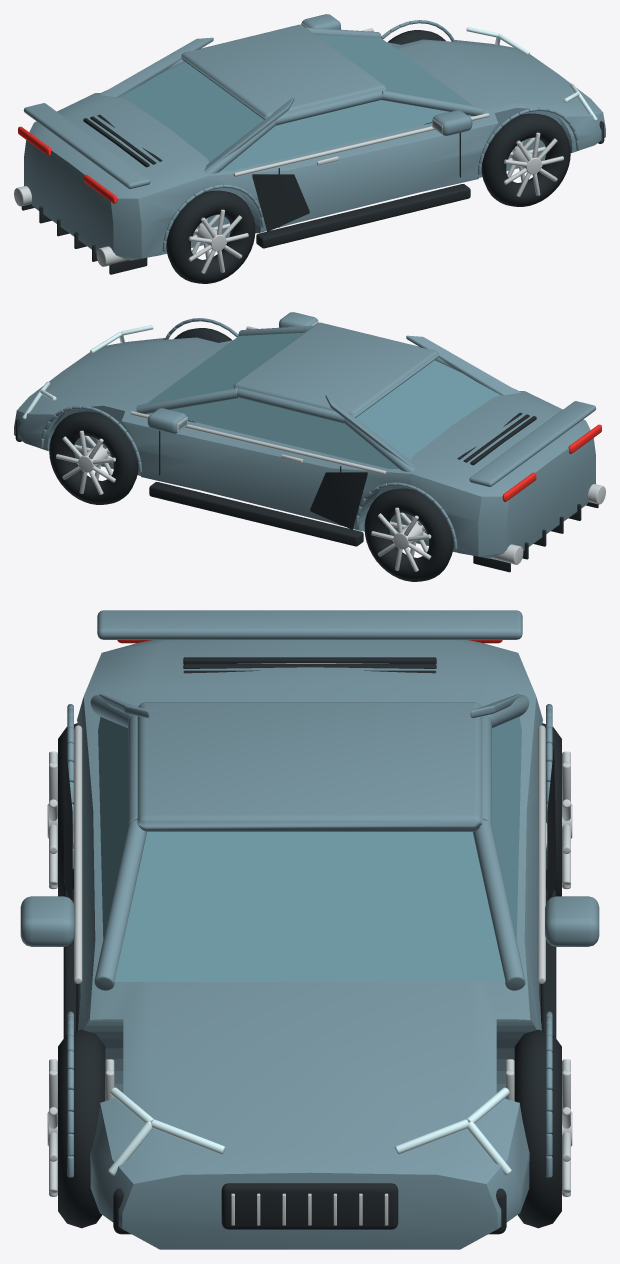
File: VelaR.fbx
3 renders of one model, top to bottom at view 1: azimuth 30°, elevation 25°; view 2: azimuth 150°, elevation 25°; view 3: azimuth 270°, elevation 25°, orthographic. The views are drawn at different scales.
Parts seen in each view (by area): view 1: BodyPaint, Glazing, TrimRubber, TrimRubber.001, TrimRubber.002, BrushedAlloy, BrushedAlloy.001, BrushedAlloy.002, Taillamp, Headlamp, TrimRubber.004; view 2: BodyPaint, Glazing, TrimRubber, TrimRubber.003, TrimRubber.004, BrushedAlloy, BrushedAlloy.003, BrushedAlloy.004, Taillamp, Headlamp, TrimRubber.002; view 3: BodyPaint, Glazing, TrimRubber, TrimRubber.002, TrimRubber.004, BrushedAlloy, Headlamp, BrushedAlloy.004, BrushedAlloy.002, BrushedAlloy.001, BrushedAlloy.003, TrimRubber.001 (+1 smaller).
Boxes of the visible parts, x1,y1,x2,y2 form: BodyPaint: (23, 14, 605, 260); Glazing: (119, 34, 473, 170); TrimRubber: (21, 114, 604, 274); TrimRubber.001: (166, 190, 255, 283); TrimRubber.002: (481, 113, 570, 206); BrushedAlloy: (14, 22, 489, 266); BrushedAlloy.001: (188, 209, 248, 273); BrushedAlloy.002: (504, 132, 563, 196); Taillamp: (18, 126, 117, 203); Headlamp: (466, 27, 597, 121); TrimRubber.004: (387, 30, 445, 44); BodyPaint: (14, 312, 596, 558); Glazing: (146, 332, 500, 468); TrimRubber: (15, 412, 598, 572); TrimRubber.003: (364, 488, 453, 581); TrimRubber.004: (49, 411, 138, 504); BrushedAlloy: (130, 320, 605, 564); BrushedAlloy.003: (371, 507, 431, 571); BrushedAlloy.004: (56, 430, 115, 494); Taillamp: (502, 424, 601, 501); Headlamp: (22, 325, 153, 419); TrimRubber.002: (174, 328, 232, 342); BodyPaint: (20, 610, 599, 1249); Glazing: (98, 717, 521, 981); TrimRubber: (63, 657, 556, 1234); TrimRubber.002: (58, 1029, 105, 1228); TrimRubber.004: (514, 1029, 561, 1228); BrushedAlloy: (72, 725, 547, 1225); Headlamp: (108, 1087, 511, 1175); BrushedAlloy.004: (505, 1059, 572, 1196); BrushedAlloy.002: (47, 1059, 114, 1196); BrushedAlloy.001: (47, 751, 57, 889); BrushedAlloy.003: (562, 751, 572, 889); TrimRubber.001: (58, 723, 77, 896).
Bounding box in the file's own units: 516 × 145 × 256.
